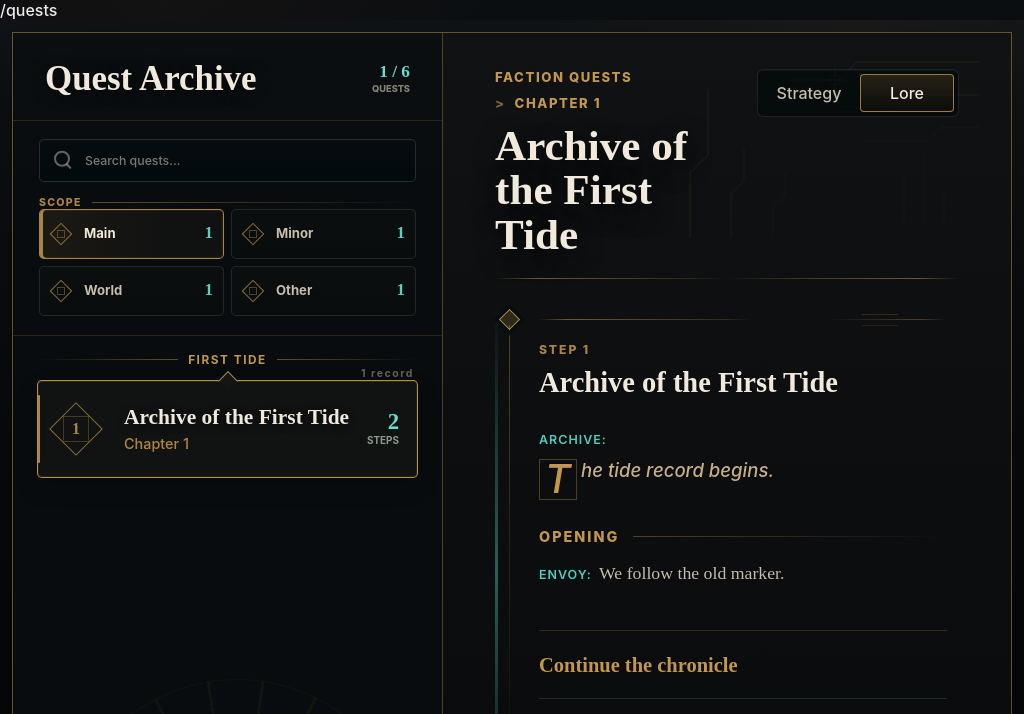
Test case: QuestExplorerPage filtering, projection, and rail navigation › combines search with category filtering
expect the heading "Archive of the First Tide" is shown: met, box x1=495 y1=122 x2=687 y2=258
Click the radio button with aria-label "World Quests" at (132, 291), box x1=39 y1=266 x2=224 y2=316
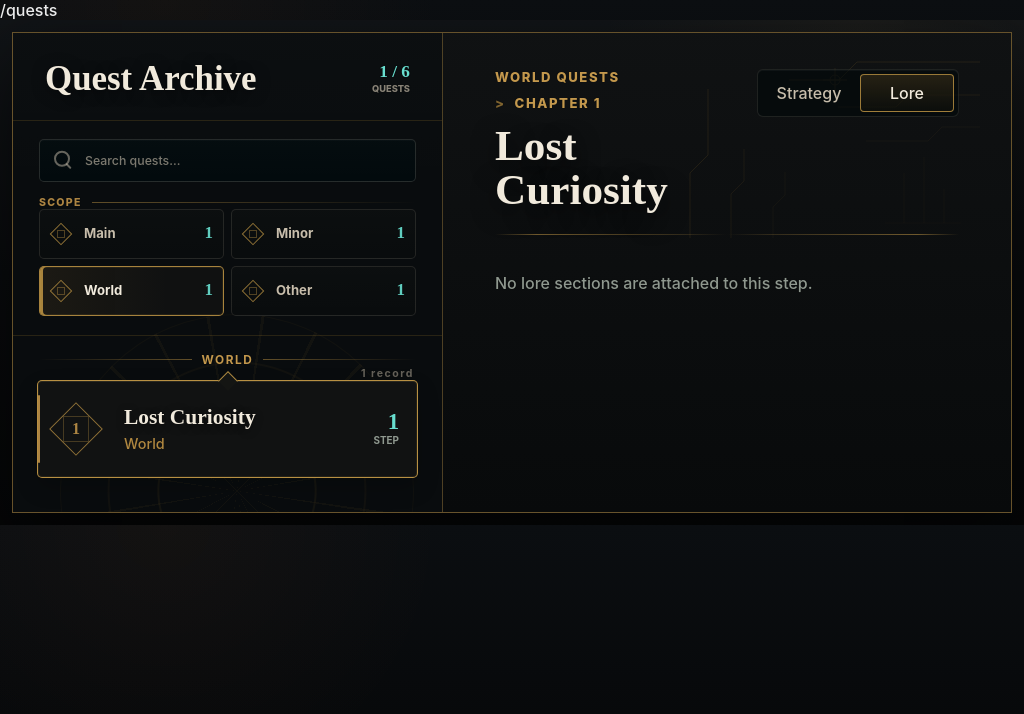
expect the heading "Lost Curiosity" is shown: met, box x1=495 y1=122 x2=668 y2=214
Type "missing" into the search field labelled "Search" at (228, 160), box x1=39 y1=139 x2=416 y2=182
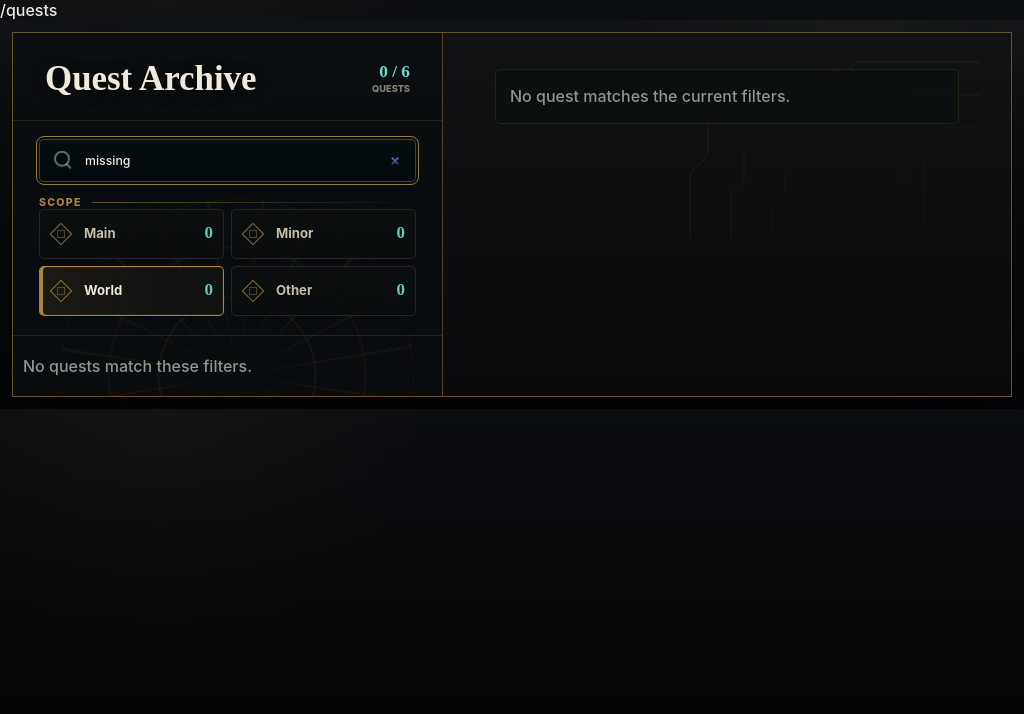
expect the text "No quests match these filters." is shown: met, box x1=23 y1=356 x2=252 y2=376
expect the text "No quest matches the current filters." is shown: met, box x1=495 y1=69 x2=959 y2=124
